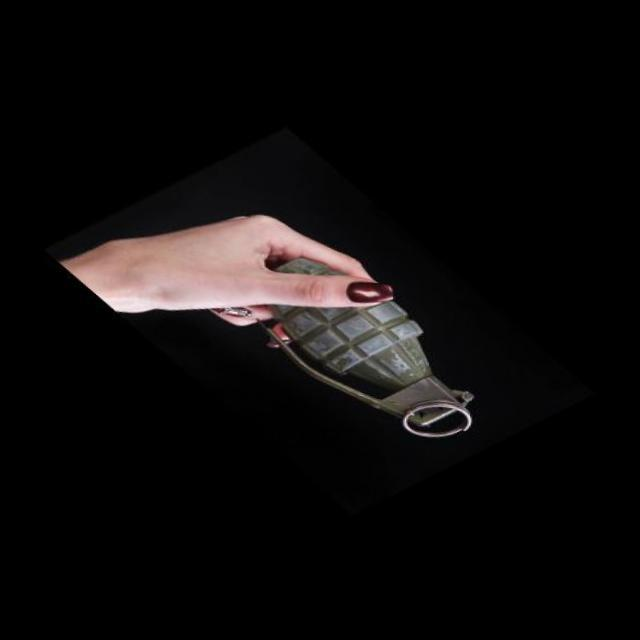grenade: (228, 234, 497, 446)
